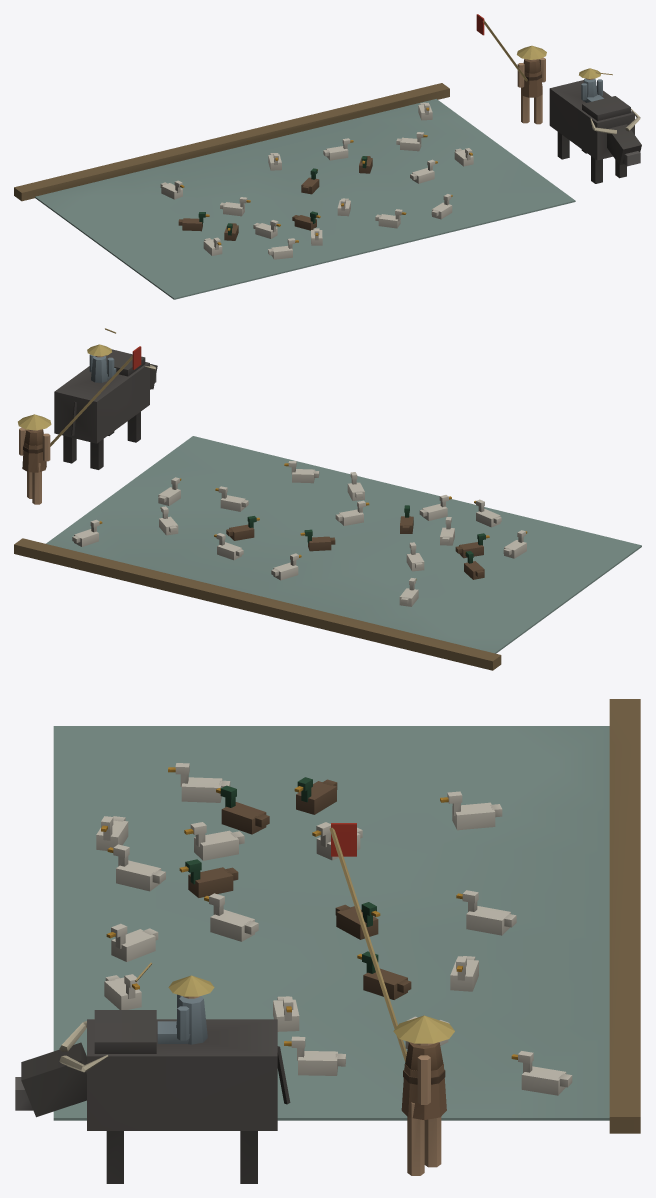
File: shepherd.glb
3 views of the same model, one above another, from view 1: azimuth 30°, elevation 25°; view 2: azimuth 150°, elevation 25°; view 3: azimuth 270°, elevation 25° (orthographic). The views are drawn at different scales.
Parts seen in each view (by area): view 1: base, anim_graze; view 2: base, anim_graze; view 3: base, anim_graze.
Part boxes in pixels (x1,y1,x2,y2): base: (14,14,641,299); anim_graze: (160,102,473,259); base: (14,328,641,670); anim_graze: (72,461,527,606); base: (15,699,640,1183); anim_graze: (96,763,572,1095).
Size of the model in its own units: 10.93 by 2.95 by 6.07.
